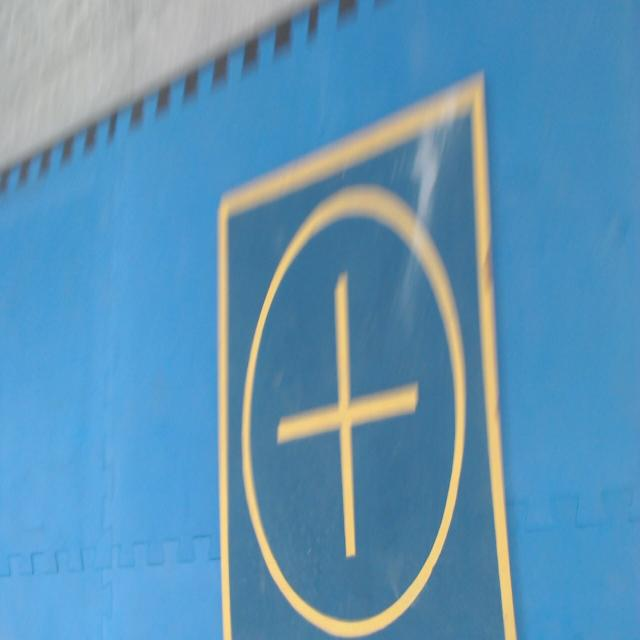base_pouso: (218, 68, 519, 639)
